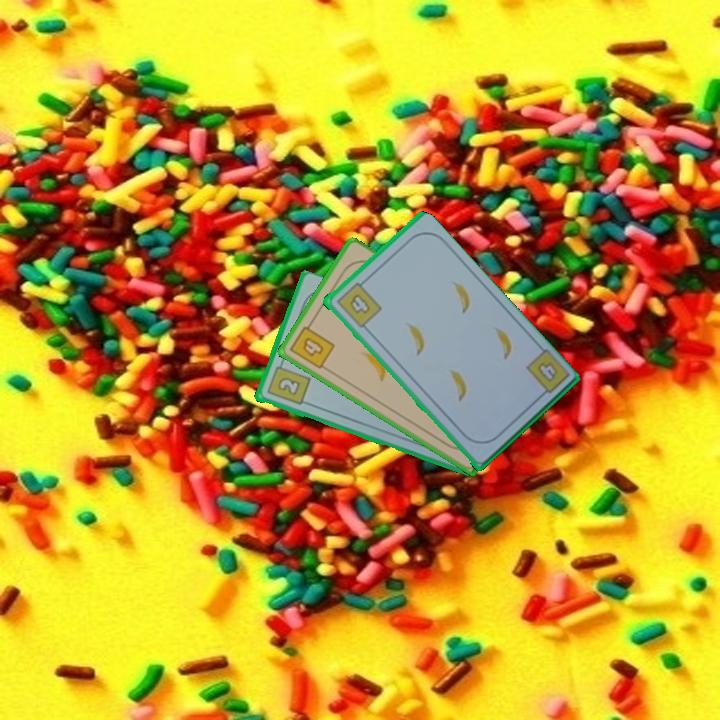2b: (263, 357, 312, 408)
4b: (286, 318, 338, 372), (332, 276, 384, 330), (521, 346, 571, 402)
